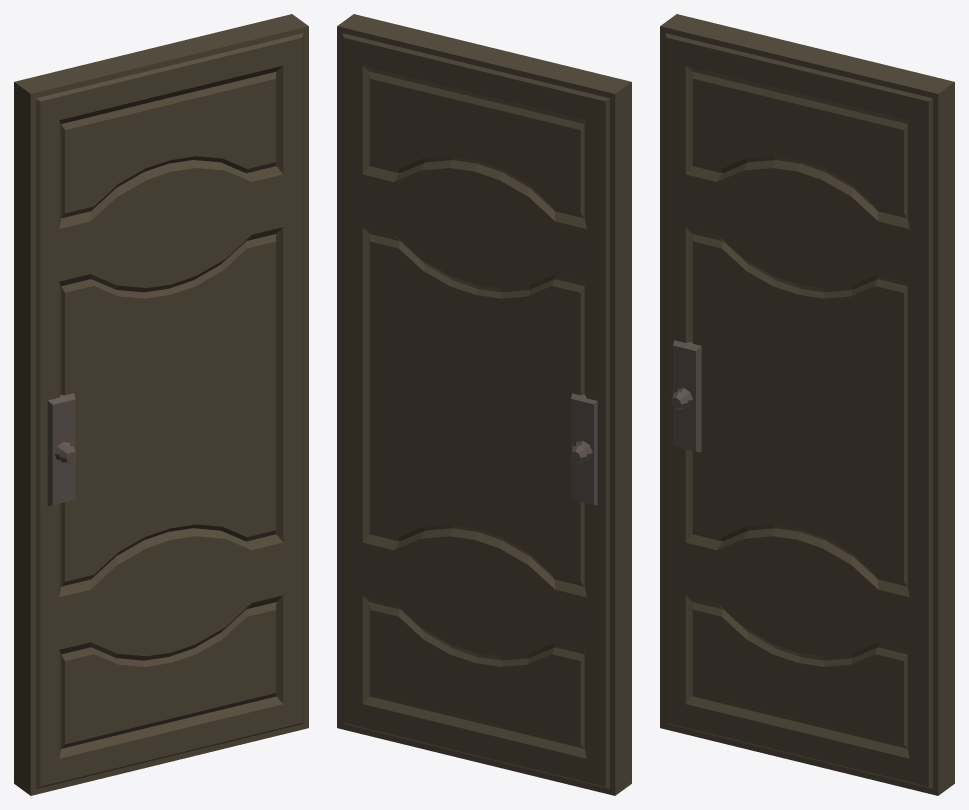
The model's file is quaternius-house-interior-door-8.glb.
3 renders of one model, left to right at view 1: azimuth 30°, elevation 25°; view 2: azimuth 150°, elevation 25°; view 3: azimuth 330°, elevation 25°, orthographic.
Visible parts, largest first — view 1: Door_8; view 2: Door_8; view 3: Door_8.
Part boxes in pixels (x1,y1,x2,y2): Door_8: (14,14,308,795); Door_8: (337,14,631,795); Door_8: (660,14,954,795).
Size of the model in its own units: 1.74 by 4.2 by 0.4422.
